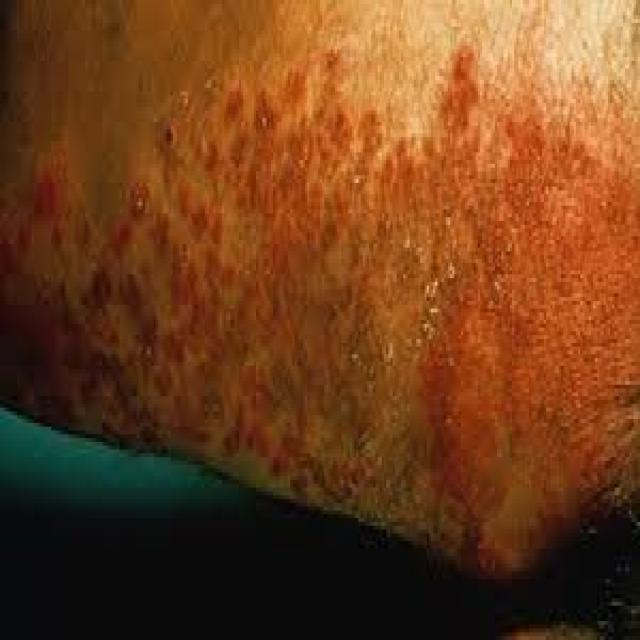Eczema: (2, 65, 640, 541)
